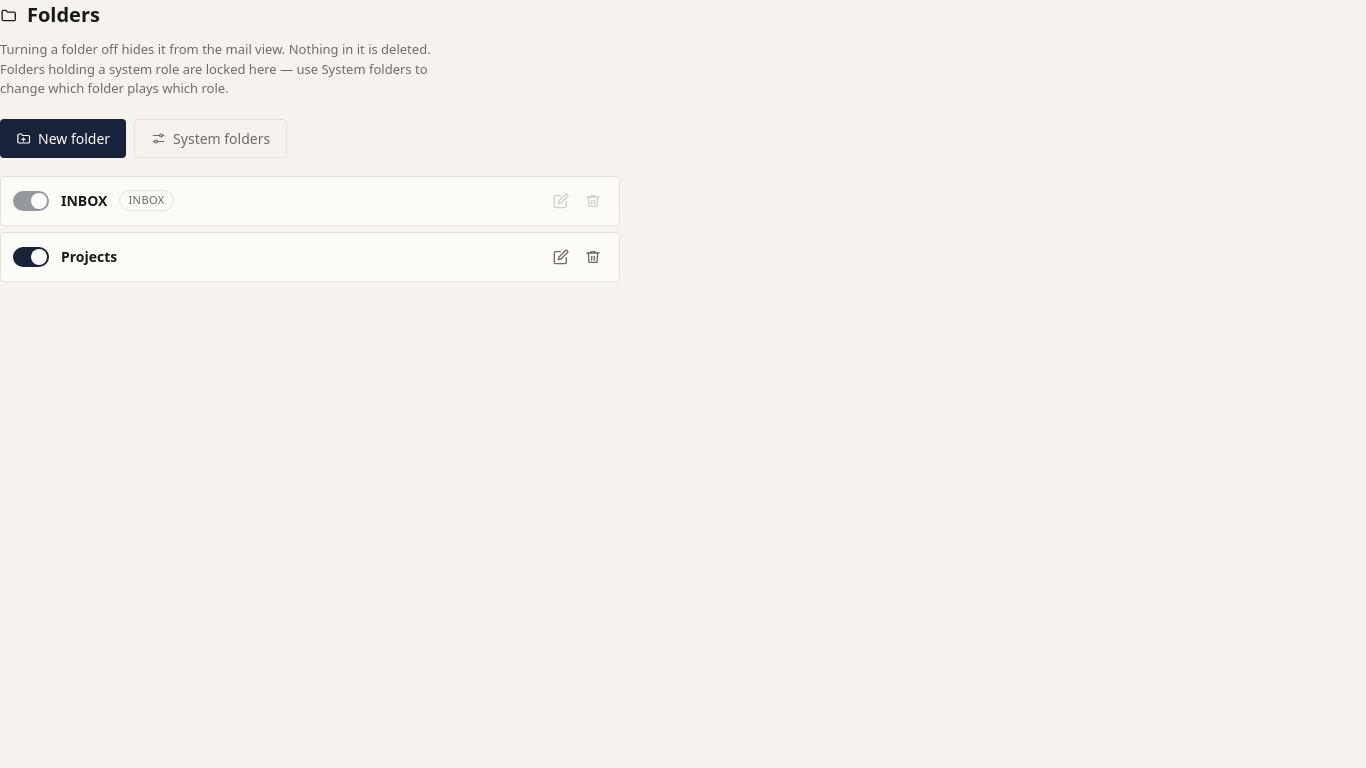
Scenario: FoldersPage › opens the create dialog
Expected: the checkbox named "Show Projects" is shown, [13,246,49,266]
Step 1. Click the button "New folder" → (63, 138), box [0,118,126,158]
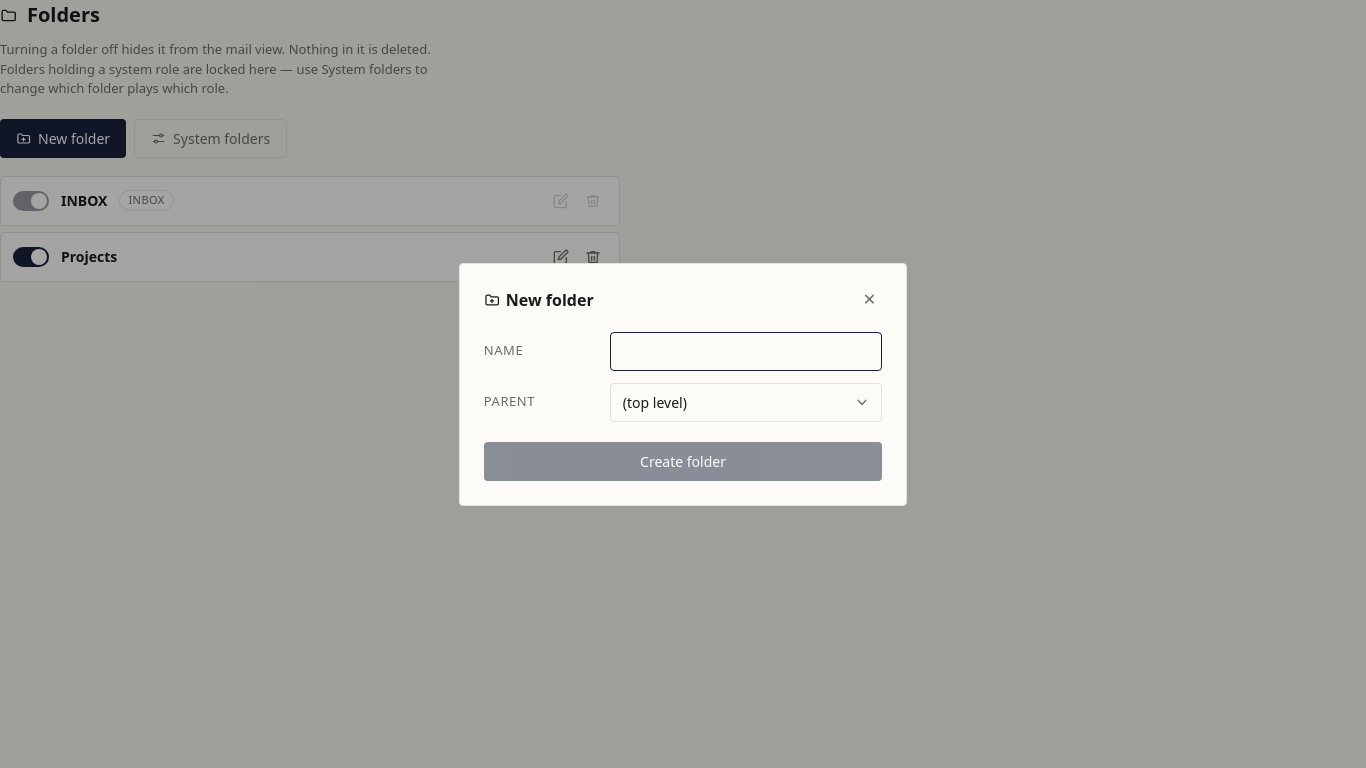
Result: the button "Create folder" is shown at [484,442,882,480]
